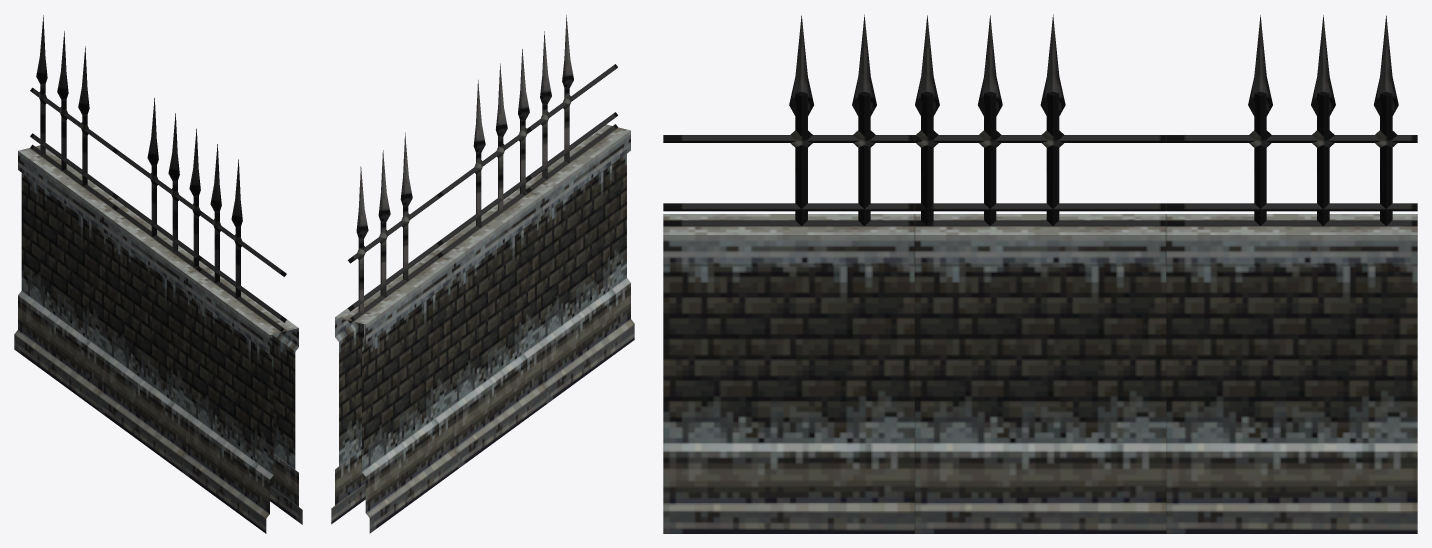
Rendered from EnvBdgMD_Snow_Seidoukikan_A_Outdoor_Fence_C.FBX.
3 views of the same model, side by side, from view 1: azimuth 30°, elevation 25°; view 2: azimuth 150°, elevation 25°; view 3: azimuth 270°, elevation 25° (orthographic). The views are drawn at different scales.
Parts seen in each view (by area): view 1: EnvBdgMD_Snow_Seidoukikan_A_Outdoor_Fence_C; view 2: EnvBdgMD_Snow_Seidoukikan_A_Outdoor_Fence_C; view 3: EnvBdgMD_Snow_Seidoukikan_A_Outdoor_Fence_C.
Boxes of the visible parts, box(x1,y1,x2,y2) form: EnvBdgMD_Snow_Seidoukikan_A_Outdoor_Fence_C: box(14, 15, 302, 533); EnvBdgMD_Snow_Seidoukikan_A_Outdoor_Fence_C: box(331, 15, 634, 533); EnvBdgMD_Snow_Seidoukikan_A_Outdoor_Fence_C: box(663, 14, 1417, 533).
Size of the model in its own units: 50 by 445 by 600.
Materials: 1 (1 with a texture image).
